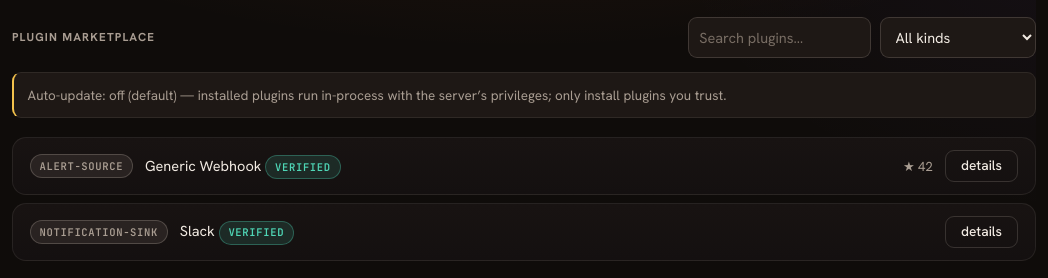
it: MarketplacePage › filters the catalog by kind
Check: the text "Generic Webhook" is shown, box [145,156,261,175]
Select "Notification sink" in the dropdown named "Filter by kind": (958, 37) [880,17,1036,58]
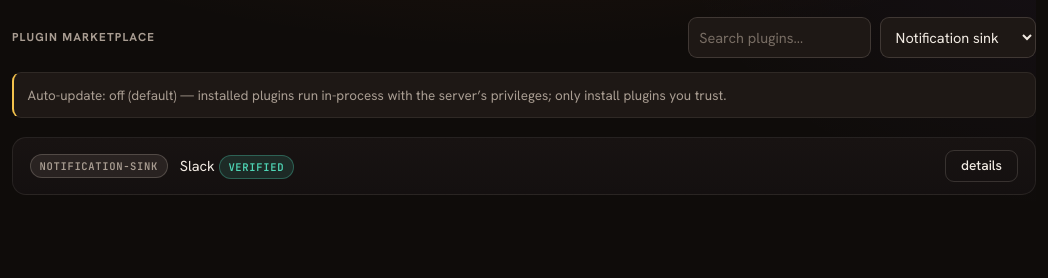
Check: the text "Slack" is shown, box [180,156,215,175]
Check: the text "Generic Webhook" is gone
